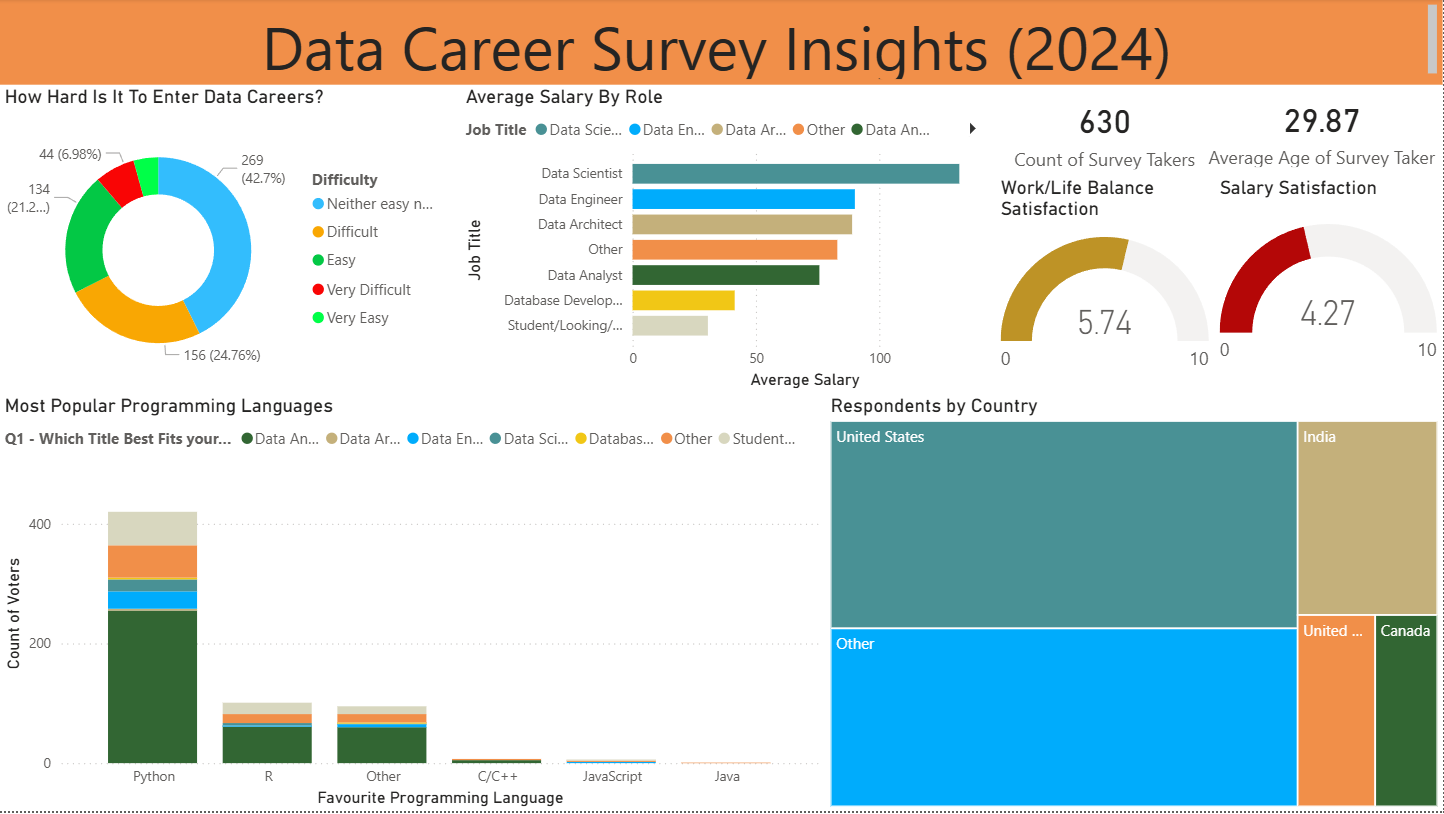

The dashboard page shown, as its layout file describes it:
{"tool":"powerbi","page":{"name":"Data Career Dashboard","canvas":[1280,720],"ordinal":0},"visuals":[{"type":"textbox","box":[0,0,1280,76],"z":0},{"type":"card","fields":{"Values":["Count(Data Professional Survey.Unique ID)"]},"box":[882.9,78.3,194.5,78.3],"z":1},{"type":"card","fields":{"Values":["Avg(Data Professional Survey.Q10 - Current Age)"]},"box":[1065.9,78.3,214.1,76],"z":2},{"type":"barChart","title":"Average Salary By Role","fields":{"Category":["Data Professional Survey.Q1 - Which Title Best Fits your Current Role?.1"],"Y":["Avg(Data Professional Survey.Average Salary )"],"Series":["Data Professional Survey.Q1 - Which Title Best Fits your Current Role?.1"]},"box":[408.6,76,474.2,274],"z":3},{"type":"columnChart","title":"Most Popular Programming Languages","fields":{"Category":["Data Professional Survey.Q5 - Favorite Programming Language.1"],"Y":["CountNonNull(Data Professional Survey.Unique ID)"],"Series":["Data Professional Survey.Q1 - Which Title Best Fits your Current Role?.1"]},"box":[0,349.9,732.1,370.6],"z":4},{"type":"treemap","title":"Respondents by Country","fields":{"Values":["CountNonNull(Data Professional Survey.Q11 - Which Country do you live in?.1)"],"Group":["Data Professional Survey.Q11 - Which Country do you live in?.1"]},"box":[732.1,349.9,547.9,370.6],"z":5},{"type":"gauge","title":"Work/Life Balance Satisfaction","fields":{"Y":["Avg(Data Professional Survey.Q6 - How Happy are you in your Current Position with the following? (Work/Life Balance))"],"MinValue":["Min(Data Professional Survey.Q6 - How Happy are you in your Current Position with the following? (Work/Life Balance))1"],"MaxValue":["Max(Data Professional Survey.Q6 - How Happy are you in your Current Position with the following? (Work/Life Balance))2"]},"box":[882.9,156.5,194.5,193.4],"z":6},{"type":"gauge","title":"Salary Satisfaction","fields":{"Y":["Avg(Data Professional Survey.Q6 - How Happy are you in your Current Position with the following? (Salary))"],"MinValue":["Min(Data Professional Survey.Q6 - How Happy are you in your Current Position with the following? (Salary))"],"MaxValue":["Max(Data Professional Survey.Q6 - How Happy are you in your Current Position with the following? (Salary))"]},"box":[1077.4,156.5,202.6,193.4],"z":7},{"type":"donutChart","title":"How Hard Is It To Enter Data Careers?","fields":{"Category":["Data Professional Survey.Q7 - How difficult was it for you to break into Data?"],"Y":["CountNonNull(Data Professional Survey.Q7 - How difficult was it for you to break into Data?)"]},"box":[0,76,399.4,274],"z":8}]}

Visuals, with their boxes in screenshot pixels (x1, y1, x2, y2), scaled from the page's 1280x720 canvas onto the 1444x814 screenshot:
textbox: l=0, t=0, r=1443, b=86
card - Count(Data Professional Survey.Unique ID): l=996, t=89, r=1215, b=177
card - Avg(Data Professional Survey.Q10 - Current Age): l=1202, t=89, r=1443, b=174
"Average Salary By Role" barChart: l=461, t=86, r=996, b=396
"Most Popular Programming Languages" columnChart: l=0, t=396, r=826, b=813
"Respondents by Country" treemap: l=826, t=396, r=1443, b=813
"Work/Life Balance Satisfaction" gauge: l=996, t=177, r=1215, b=396
"Salary Satisfaction" gauge: l=1215, t=177, r=1443, b=396
"How Hard Is It To Enter Data Careers?" donutChart: l=0, t=86, r=451, b=396
